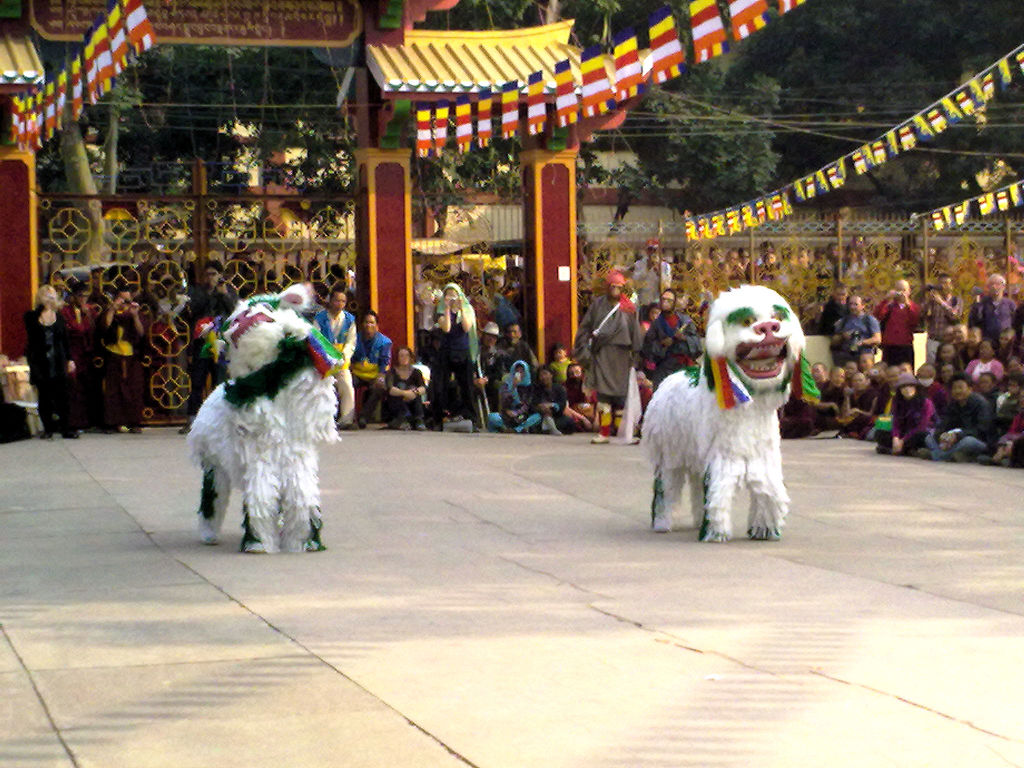Tree: (532, 0, 1023, 214), (27, 34, 115, 265)
